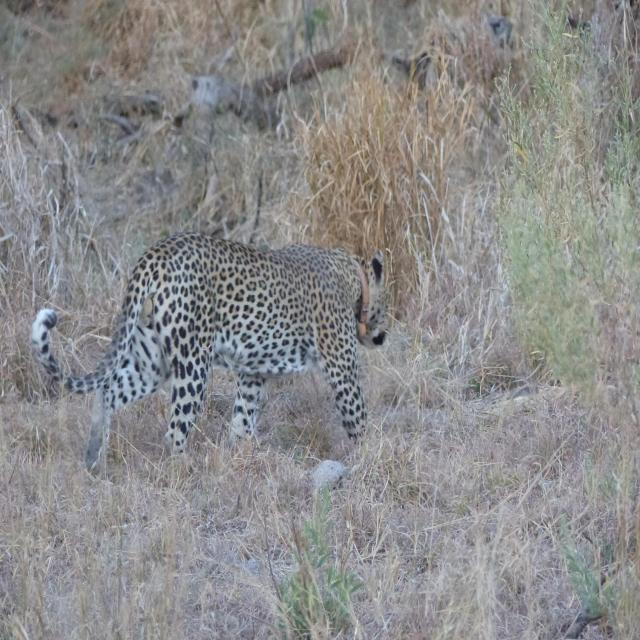Leopard: (33, 239, 398, 478)
